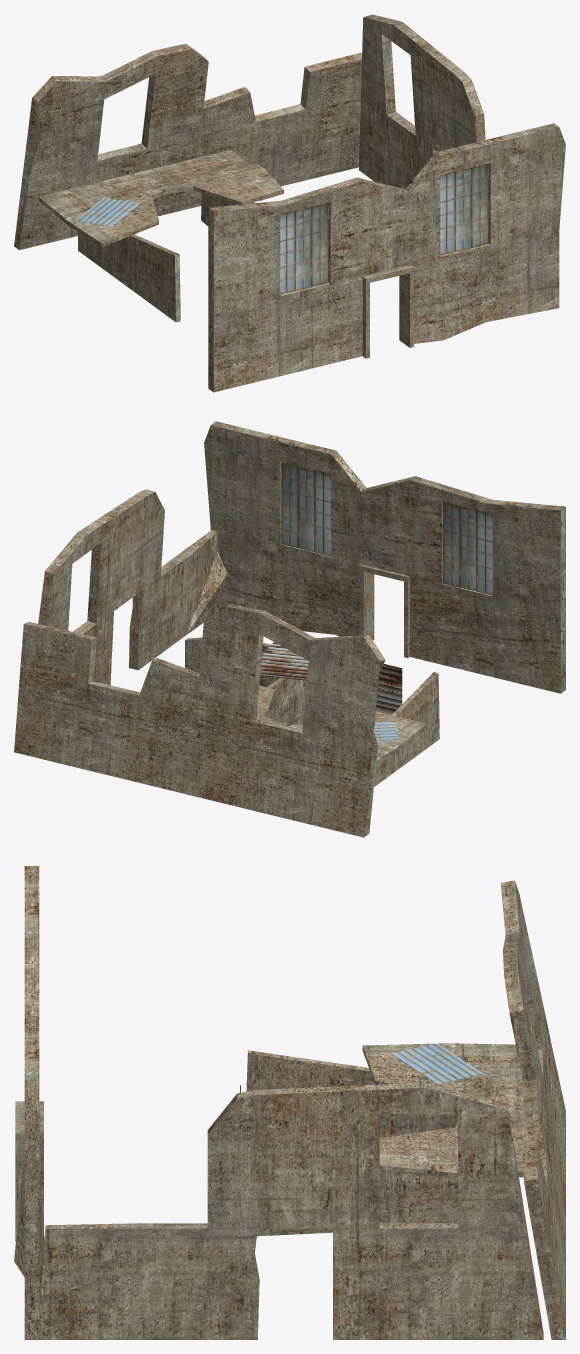
The model's file is building_destroyed_01.fbx.
3 renders of one model, top to bottom at view 1: azimuth 30°, elevation 25°; view 2: azimuth 150°, elevation 25°; view 3: azimuth 270°, elevation 25°, orthographic. The views are drawn at different scales.
Parts seen in each view (by area): view 1: building_destroyed_01; view 2: building_destroyed_01; view 3: building_destroyed_01.
Part boxes in pixels (x1,y1,x2,y2): building_destroyed_01: [14, 14, 565, 392]; building_destroyed_01: [14, 421, 565, 837]; building_destroyed_01: [14, 866, 565, 1339].
Size of the model in its own units: 11.45 by 5.91 by 11.46.
